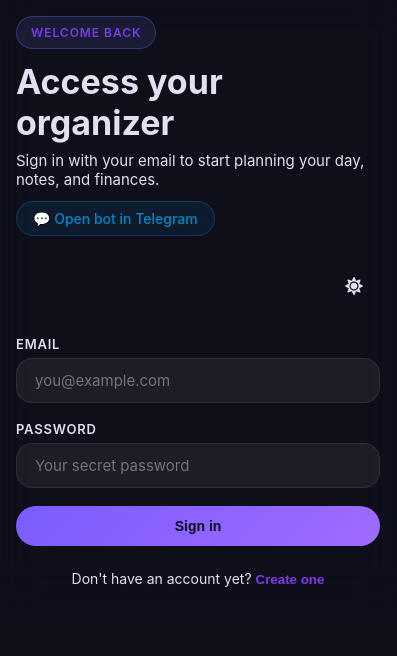
it: inside Telegram the registration form starts with the Telegram name
Click the button "Create one". click: point(290, 580)
box: [256,572,324,587]
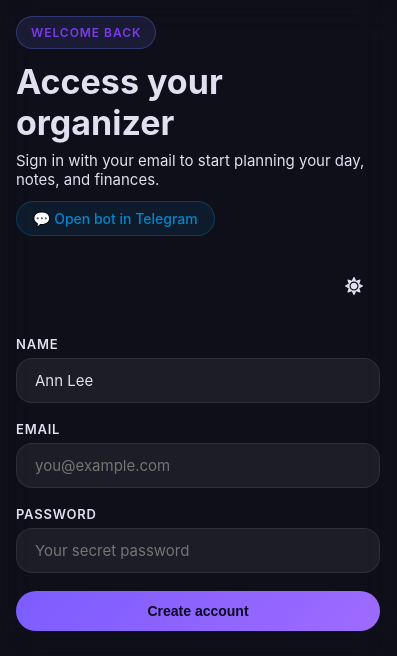
Result: the field labelled "Name" holds "Ann Lee" at [16,358,380,403]
